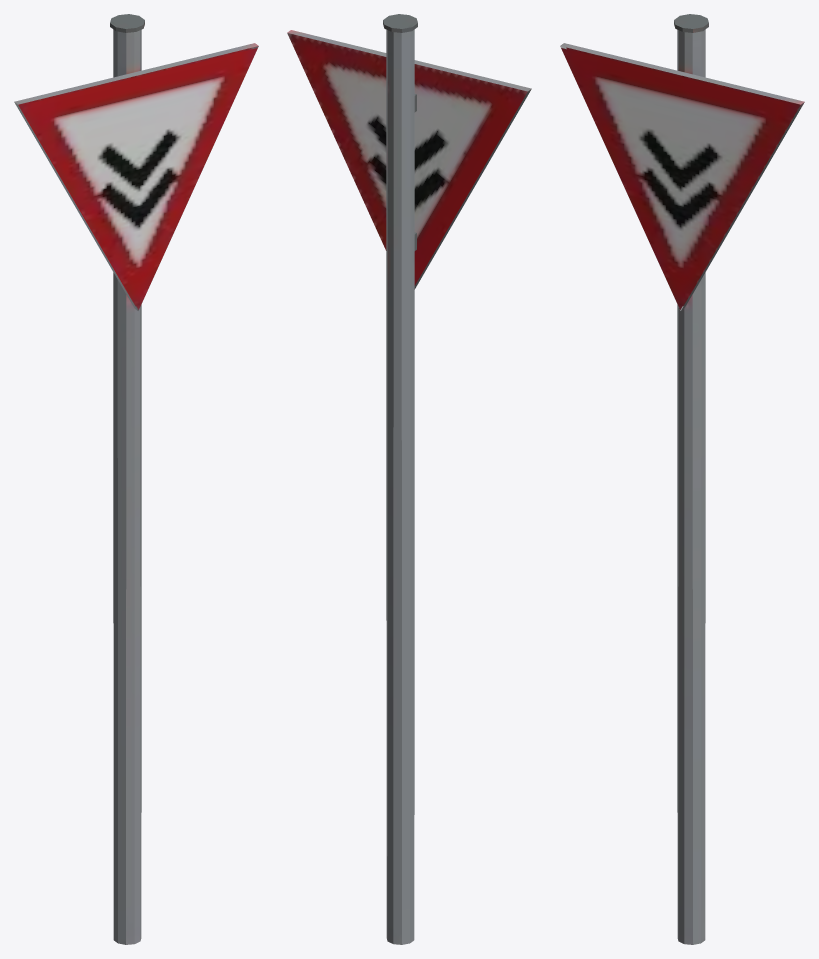
Rendered from sign_yield.glb.
3 renders of one model, left to right at view 1: azimuth 30°, elevation 25°; view 2: azimuth 150°, elevation 25°; view 3: azimuth 330°, elevation 25°, orthographic.
Parts seen in each view (by area): view 1: sign_yield_LOD0; view 2: sign_yield_LOD0; view 3: sign_yield_LOD0.
Boxes of the visible parts, <box> form: sign_yield_LOD0: <box>14,14,258,944</box>; sign_yield_LOD0: <box>287,14,531,944</box>; sign_yield_LOD0: <box>560,14,804,944</box>.
Size of what is drawn, in the model's own units: 0.7422 by 2.7 by 0.1074.
1 material, 1 textured.
